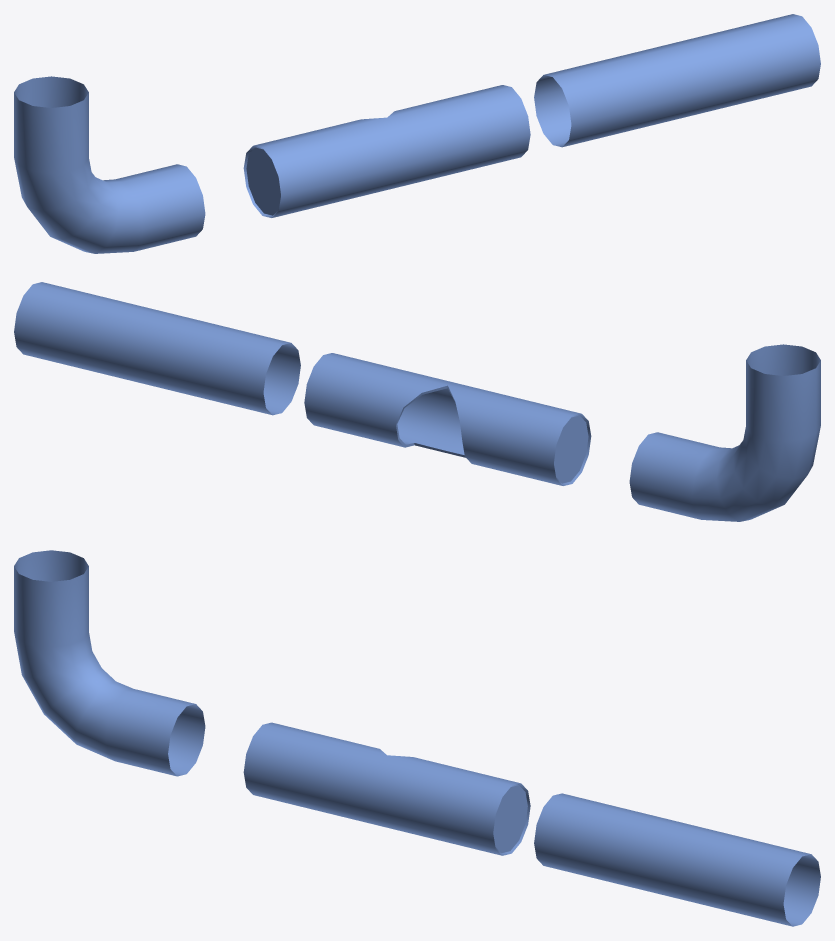
The model's file is rcMousePipeGroup.FBX.
The picture shows the model from 3 angles, top to bottom: view 1: azimuth 30°, elevation 25°; view 2: azimuth 150°, elevation 25°; view 3: azimuth 330°, elevation 25°; orthographic projection.
Visible parts, largest first — view 1: mousePipeNormal, mousePipeHole, mousePipeL; view 2: mousePipeNormal, mousePipeHole, mousePipeL; view 3: mousePipeNormal, mousePipeHole, mousePipeL.
Boxes of the visible parts, x1=… form: mousePipeNormal: x1=534, y1=14, x2=820, y2=147; mousePipeHole: x1=243, y1=85, x2=530, y2=217; mousePipeL: x1=14, y1=76, x2=205, y2=253; mousePipeNormal: x1=14, y1=282, x2=300, y2=415; mousePipeHole: x1=304, y1=353, x2=591, y2=485; mousePipeL: x1=629, y1=344, x2=820, y2=521; mousePipeNormal: x1=534, y1=793, x2=820, y2=926; mousePipeHole: x1=243, y1=722, x2=530, y2=855; mousePipeL: x1=14, y1=550, x2=205, y2=776.
Size of the model in its own units: 1.57 by 0.3354 by 0.13.
